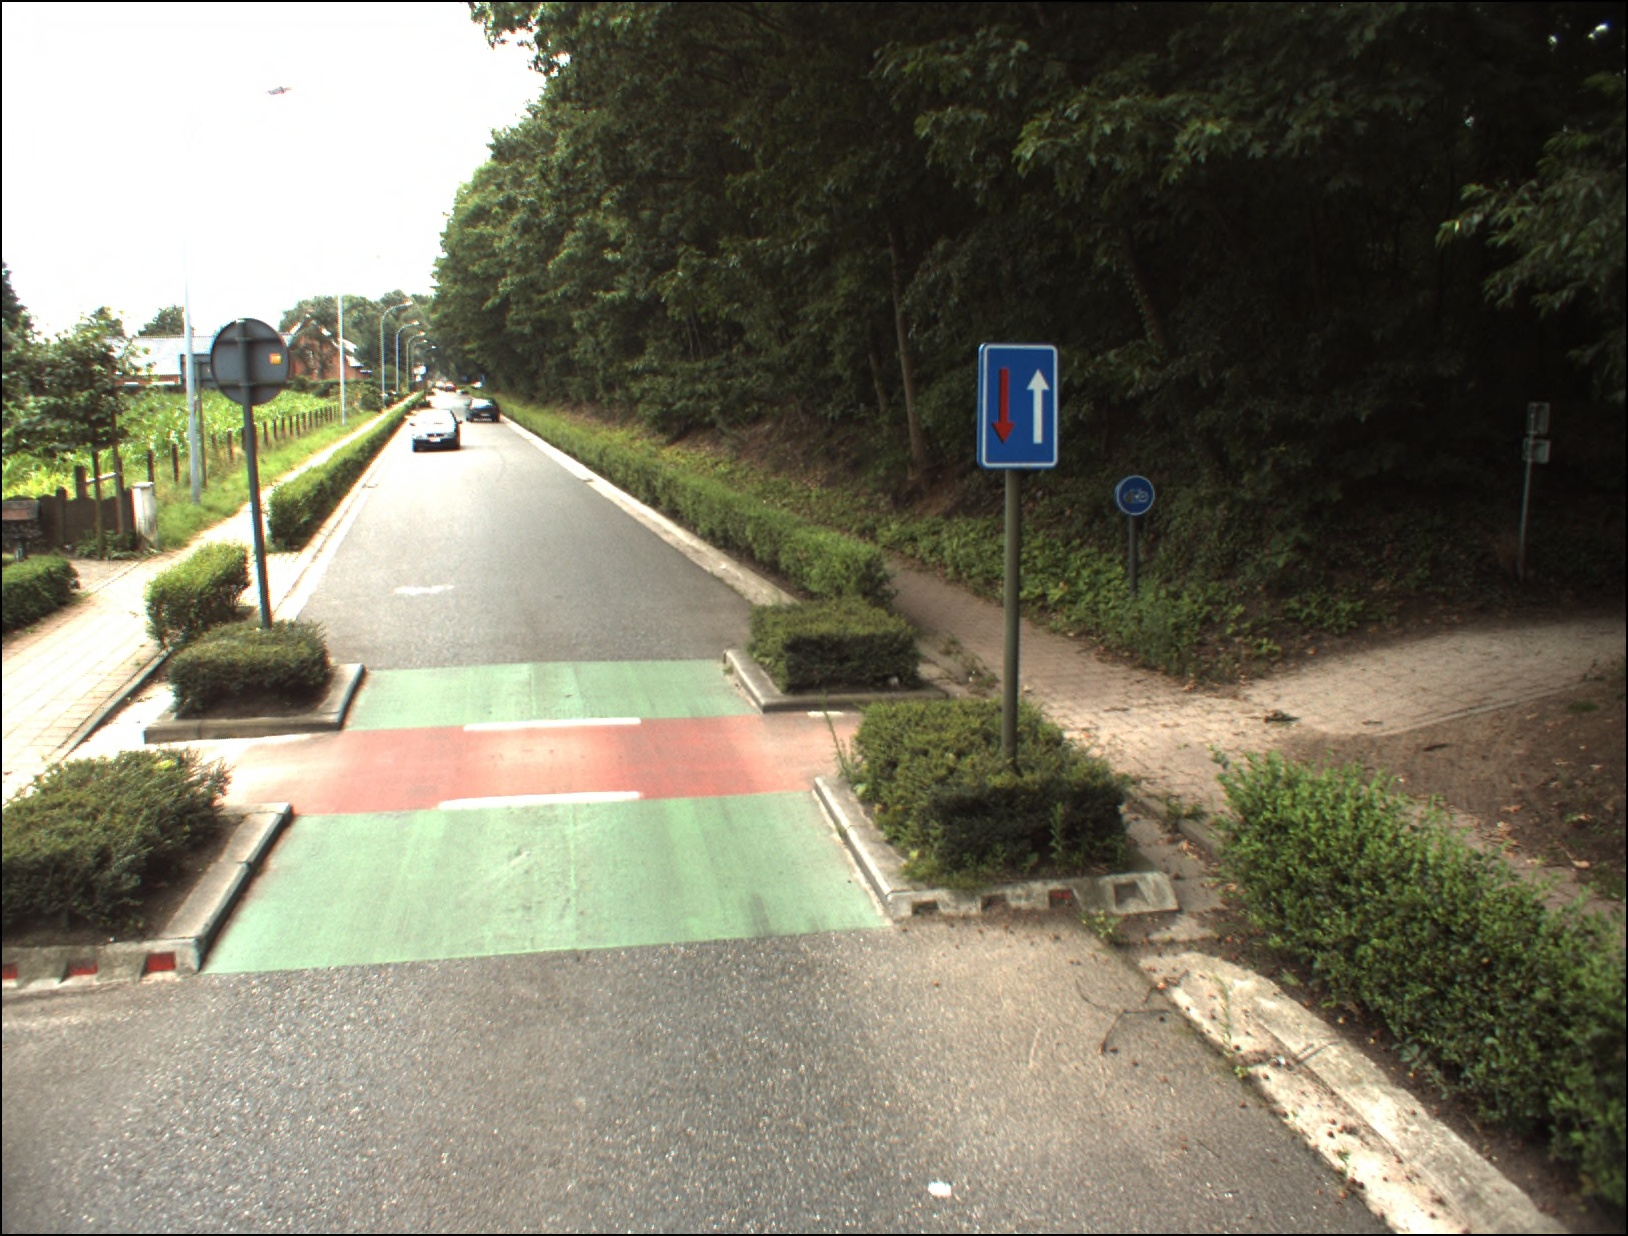cycle: (1113, 473, 1155, 515)
roadnarrow1: (981, 344, 1055, 465)
